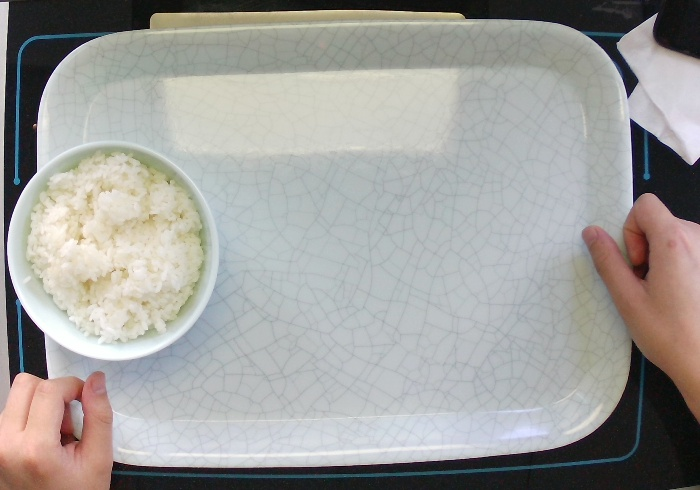JYsf-Fan_Wan: (1, 134, 225, 368)
